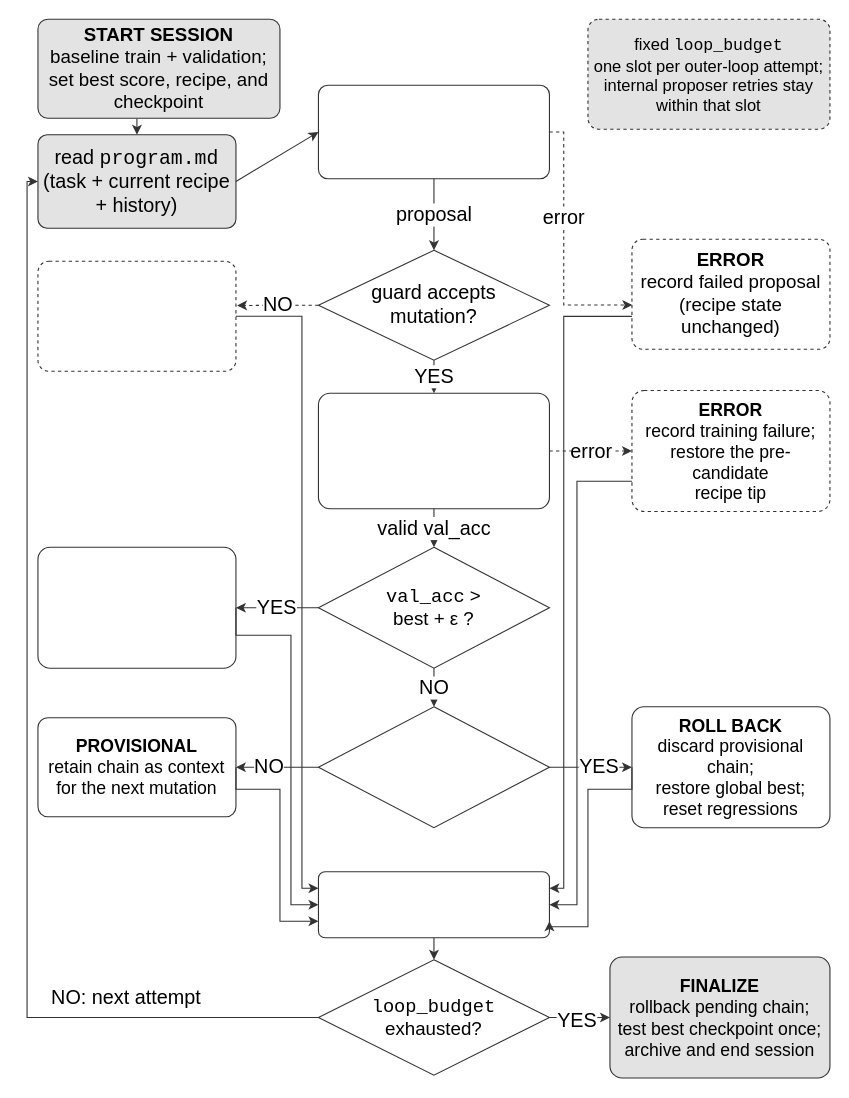
The diagram is 849 pixels wide and 1098 high, and some of its shapes have lost their labels. Here are the shapes that lost their labels. From the top down, the centre of each, then its label:
At (433,131): "proposer LLM returns one complete recipe mutation".
At (136,315): "REJECT record guard violation (recipe state unchanged)".
At (433,450): "train from scratch (fixed wall-clock budget) then evaluate validation accuracy".
At (136,607): "KEEP new best recipe + checkpoint; absorb pending chain; reset regressions".
At (433,767): "increment regressions; regressions >= patience?".
At (433,904): "record outcome; increment iteration".
